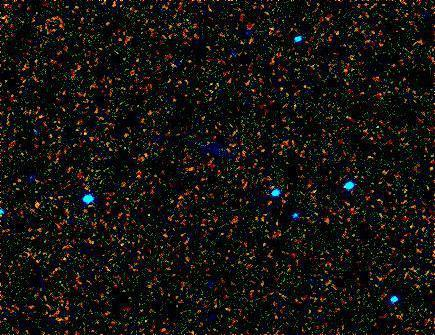star: (22, 189, 52, 219)
